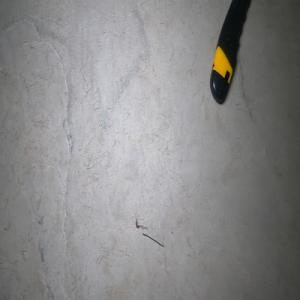Cutter: (208, 0, 249, 104)
